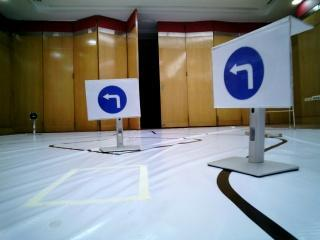left: (213, 48, 289, 109), (85, 79, 141, 117)
